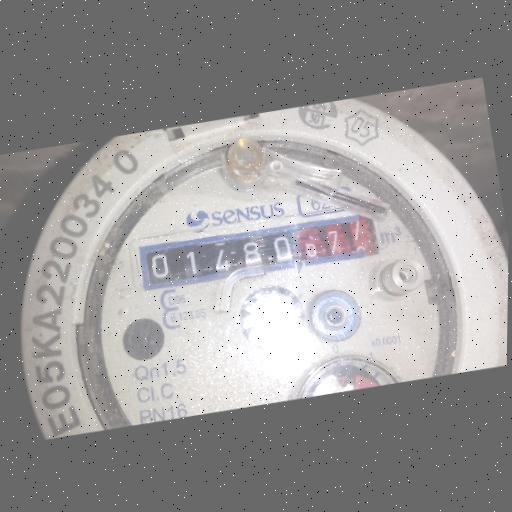0: (148, 249, 172, 284), (270, 229, 293, 264)
1: (180, 244, 203, 279)
4: (210, 240, 233, 274)
6: (299, 226, 317, 259)
7: (348, 217, 369, 252), (324, 222, 342, 255)
8: (241, 236, 263, 268)
border_water_meter_number: (136, 204, 383, 303)
